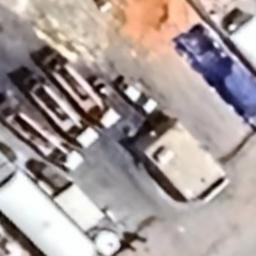sedan: (109, 74, 157, 116)
